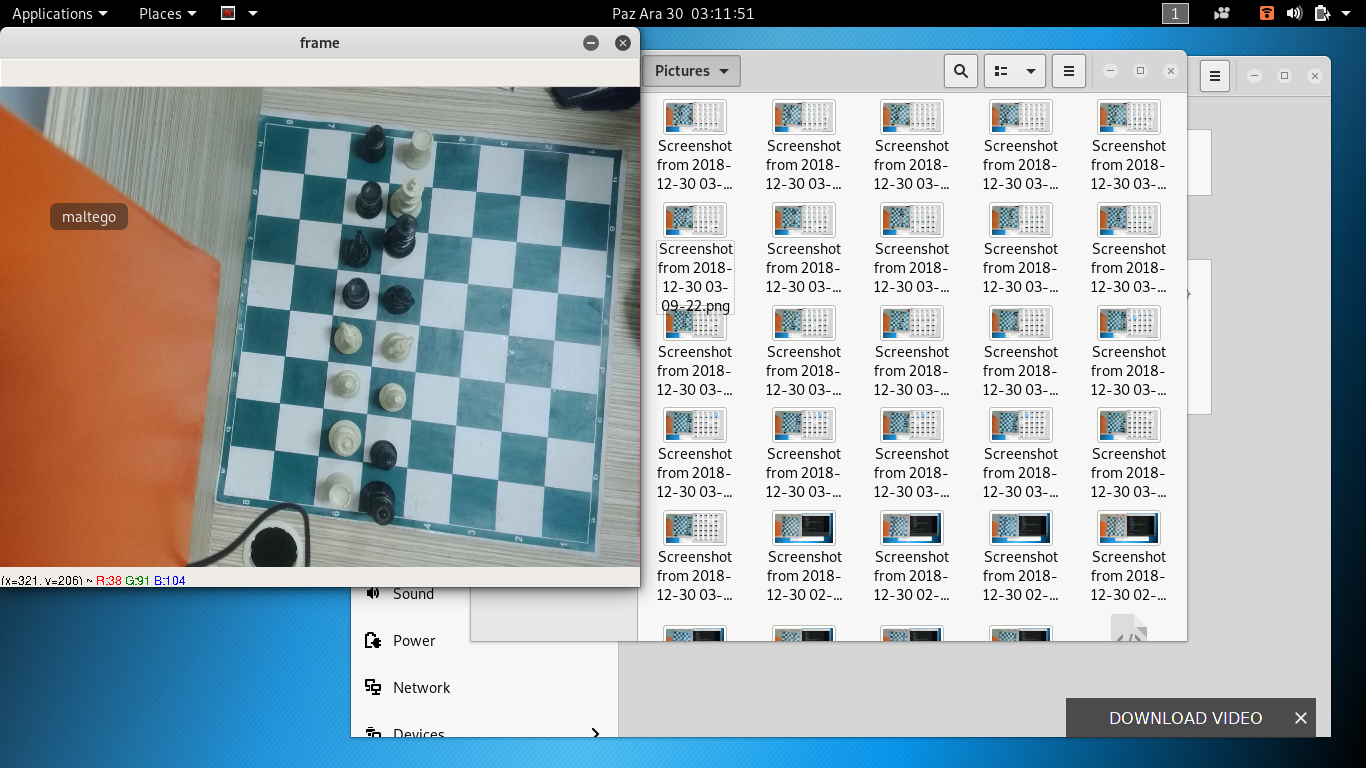BeyazAt: (333, 320, 363, 356), (379, 331, 412, 363)
BeyazFil: (376, 379, 405, 412), (334, 369, 362, 399)
BeyazKale: (322, 469, 355, 508), (402, 129, 433, 167)
BeyazSah: (387, 177, 429, 217)
BeyazVezir: (324, 418, 362, 455)
SiyahAt: (381, 283, 416, 315), (347, 231, 373, 267)
SiyahFil: (367, 439, 400, 470), (360, 126, 387, 163)
SiyahKale: (356, 181, 383, 219), (343, 276, 370, 307)
SiyahSah: (385, 216, 420, 256)
SiyahVezir: (359, 479, 396, 526)
